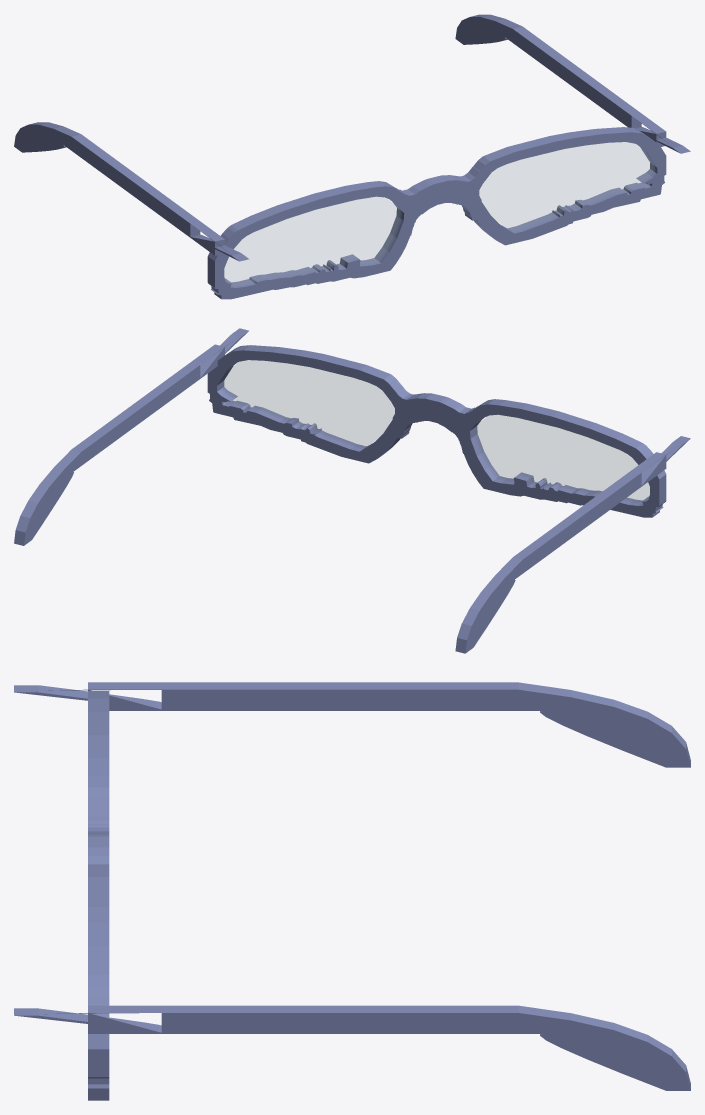
Rendered from spe52.glb.
The picture shows the model from 3 angles, top to bottom: view 1: azimuth 30°, elevation 25°; view 2: azimuth 150°, elevation 25°; view 3: azimuth 270°, elevation 25°; orthographic projection. The views are drawn at different scales.
Parts seen in each view (by area): view 1: LensRightExterior, LensLeftExterior, RimLeft, RimRight, EarhookRight, EarhookLeft, Bridge, TempleLeft, TempleRight; view 2: LensRightExterior, LensLeftExterior, RimLeft, RimRight, EarhookRight, EarhookLeft, Bridge, TempleLeft, TempleRight; view 3: EarhookRight, EarhookLeft, RimRight, RimLeft, TempleRight, TempleLeft, Bridge.
Part boxes in pixels (x1=…): LensRightExterior: x1=480, y1=142, x2=654, y2=231; LensLeftExterior: x1=225, y1=197, x2=401, y2=285; RimLeft: x1=207, y1=181, x2=413, y2=299; RimRight: x1=470, y1=127, x2=666, y2=245; EarhookRight: x1=455, y1=14, x2=641, y2=128; EarhookLeft: x1=14, y1=122, x2=200, y2=237; Bridge: x1=396, y1=167, x2=481, y2=236; TempleLeft: x1=183, y1=215, x2=249, y2=261; TempleRight: x1=624, y1=110, x2=690, y2=153; LensRightExterior: x1=223, y1=360, x2=394, y2=446; LensLeftExterior: x1=476, y1=415, x2=649, y2=501; RimLeft: x1=460, y1=399, x2=666, y2=517; RimRight: x1=207, y1=345, x2=403, y2=463; EarhookRight: x1=14, y1=362, x2=200, y2=545; EarhookLeft: x1=455, y1=470, x2=641, y2=653; Bridge: x1=392, y1=384, x2=477, y2=454; TempleLeft: x1=628, y1=436, x2=690, y2=486; TempleRight: x1=182, y1=328, x2=248, y2=379; EarhookRight: x1=161, y1=1005, x2=690, y2=1090; EarhookLeft: x1=161, y1=682, x2=690, y2=767; RimRight: x1=88, y1=864, x2=109, y2=1100; RimLeft: x1=88, y1=691, x2=109, y2=825; TempleRight: x1=14, y1=1005, x2=186, y2=1033; TempleLeft: x1=14, y1=682, x2=186, y2=710; Bridge: x1=88, y1=816, x2=109, y2=864.
Size of the model in its own units: 0.14 by 0.0272 by 0.1212.
